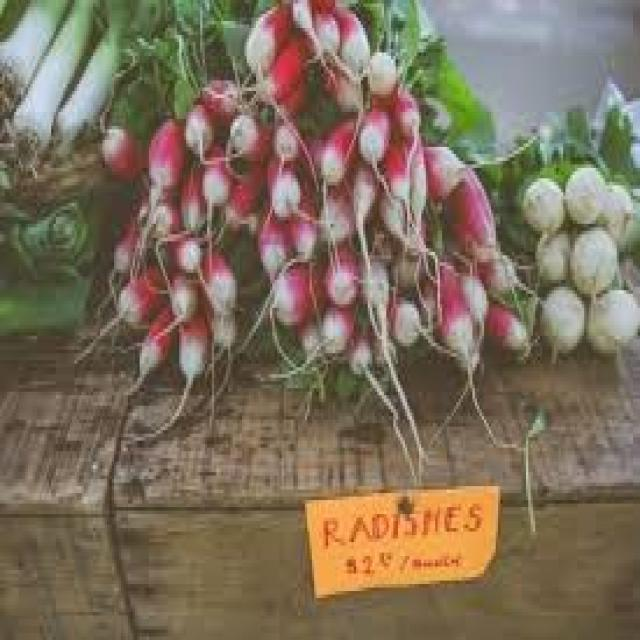biodegradable: (51, 0, 170, 147), (475, 74, 638, 179), (0, 0, 95, 157), (396, 25, 496, 151), (149, 0, 267, 101), (103, 0, 173, 126), (0, 0, 70, 105), (417, 242, 473, 361), (440, 161, 500, 269), (0, 266, 91, 332), (0, 196, 84, 266), (365, 200, 426, 291), (353, 0, 421, 59), (584, 284, 638, 354), (240, 0, 289, 77), (566, 221, 617, 291), (254, 32, 305, 102), (116, 259, 170, 325), (268, 255, 321, 322), (142, 94, 177, 189), (489, 168, 528, 252), (354, 252, 391, 339), (317, 112, 361, 185), (131, 304, 173, 378), (317, 241, 363, 308), (538, 284, 582, 354), (480, 290, 531, 350), (95, 119, 142, 182), (400, 123, 426, 235), (417, 140, 463, 203), (377, 119, 410, 203), (563, 157, 603, 224), (314, 301, 356, 364), (126, 189, 177, 238), (261, 154, 303, 213), (175, 158, 207, 235), (312, 179, 351, 242), (177, 304, 207, 385), (224, 105, 266, 161), (598, 178, 633, 245), (182, 94, 217, 161), (475, 248, 519, 301), (377, 189, 414, 252), (333, 0, 368, 66), (203, 77, 247, 129), (254, 210, 289, 273), (354, 105, 391, 164), (294, 130, 331, 186), (322, 59, 366, 105), (284, 189, 316, 252), (202, 242, 233, 305), (231, 161, 268, 213), (459, 269, 491, 329), (521, 178, 561, 224), (531, 228, 568, 277), (263, 112, 303, 157), (165, 262, 198, 315), (309, 7, 340, 63), (384, 84, 417, 136), (275, 67, 310, 116), (200, 147, 228, 206), (386, 294, 419, 343), (79, 196, 103, 259), (107, 224, 140, 269), (361, 49, 393, 91), (340, 325, 370, 367), (170, 220, 195, 266), (210, 308, 235, 350), (295, 311, 319, 353), (282, 0, 307, 35), (0, 0, 19, 35), (305, 0, 340, 14)
paper: (300, 483, 498, 598)
